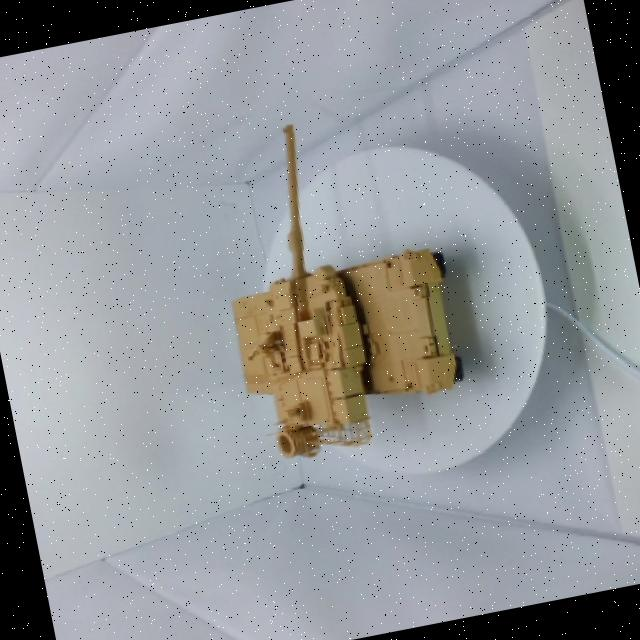korea tank: (155, 82, 518, 510)
